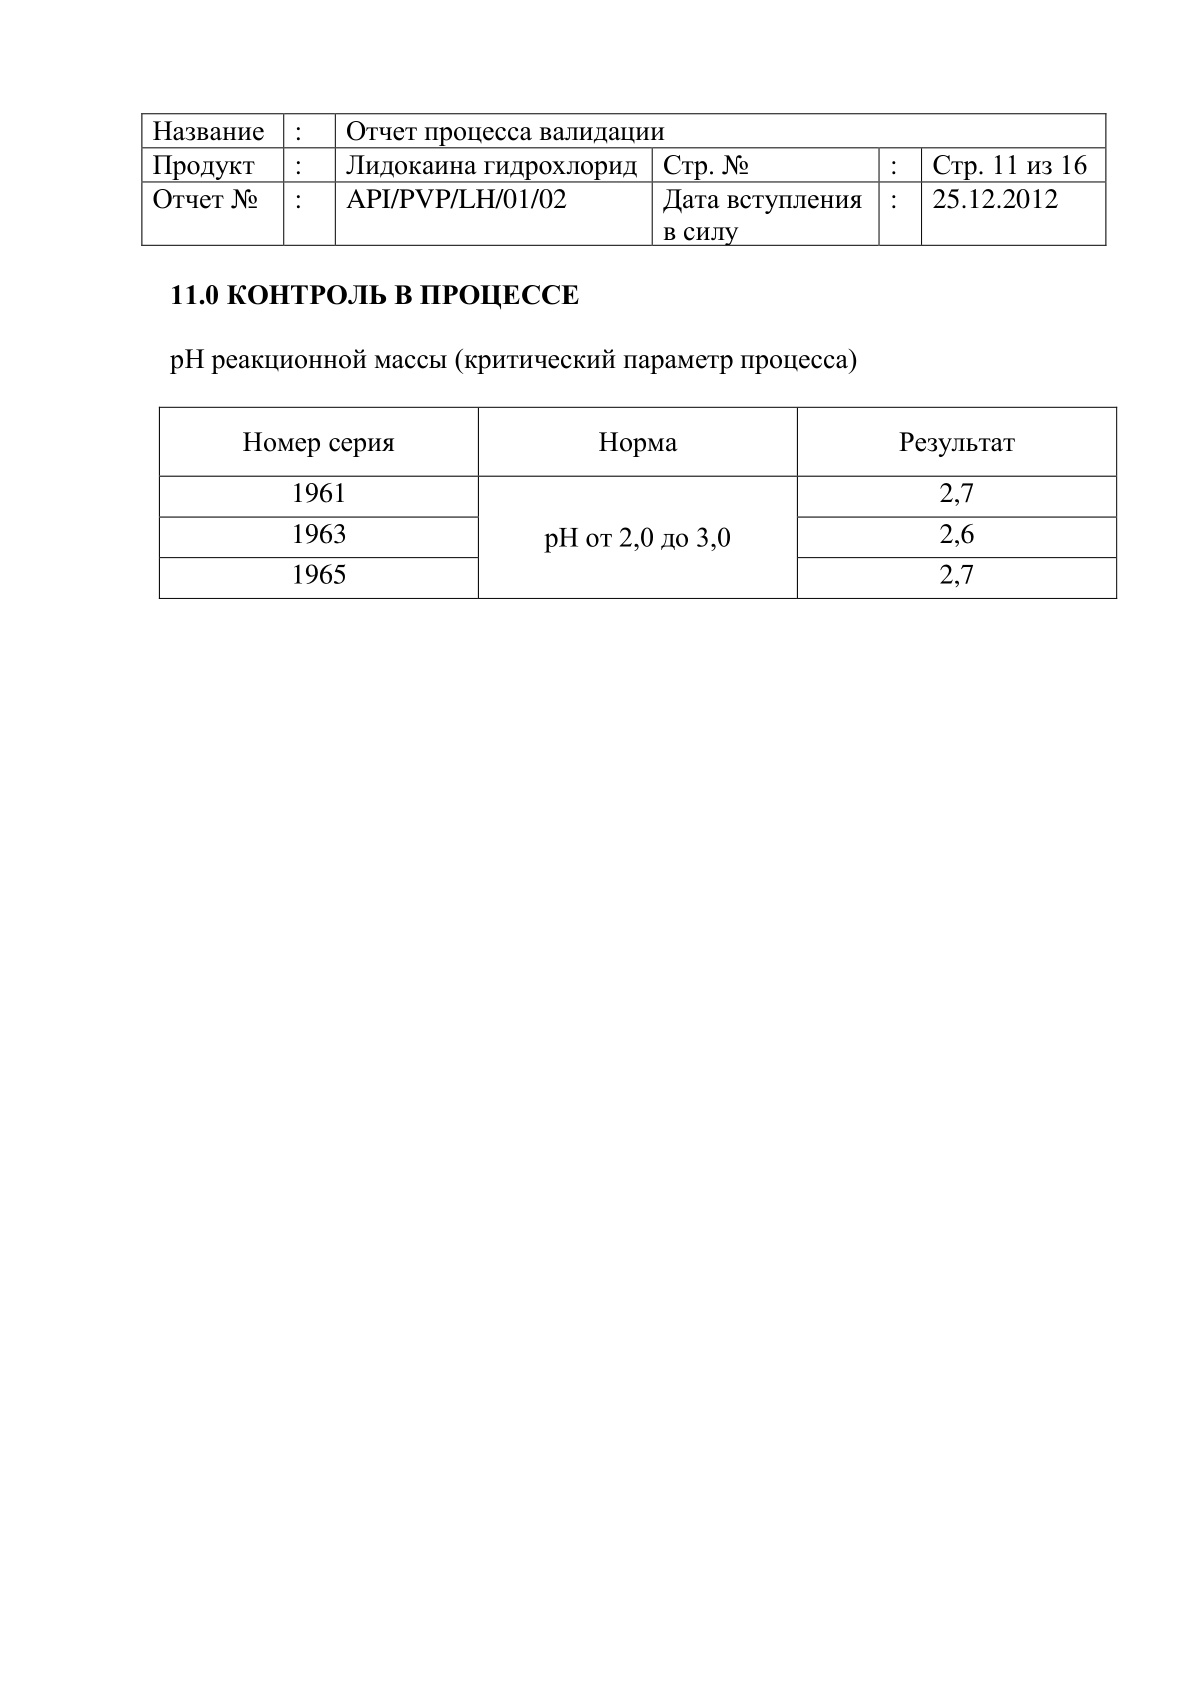merged_cells: (159, 406, 1118, 599), (140, 112, 1107, 246)
